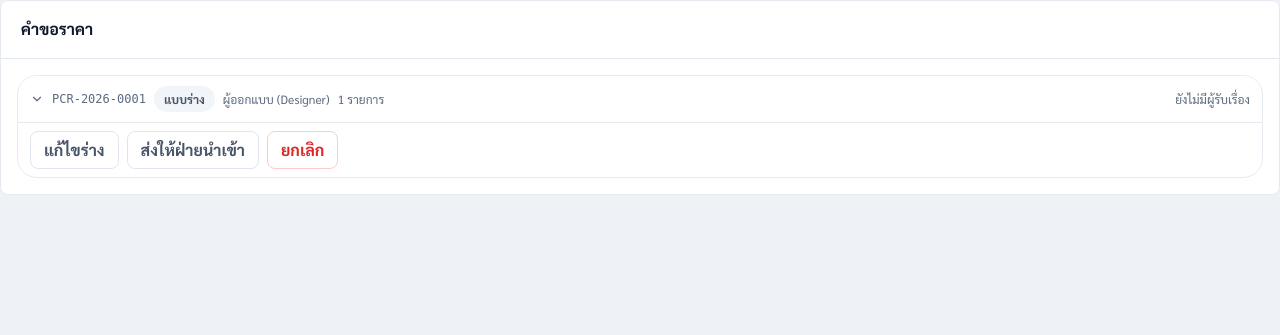
Test: PricingRequestPanel › renders a request row with its status badge and an expand toggle that loads items/events
The image size is (1280, 335).
Expected: the text "PCR-2026-0001" is shown, [52, 91, 146, 107]
Expected: the text "แบบร่าง" is shown, [154, 86, 215, 112]
Click the button "PCR-2026-0001": x=99, y=99 [18, 76, 1262, 122]
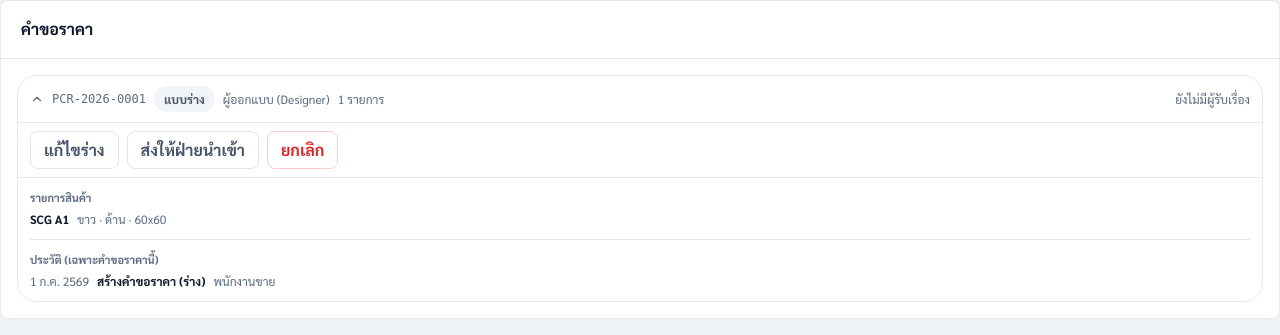
Now the text "SCG A1" is shown, box [30, 211, 69, 227]
Now the text "สร้างคำขอราคา (ร่าง)" is shown, box [97, 273, 205, 289]
